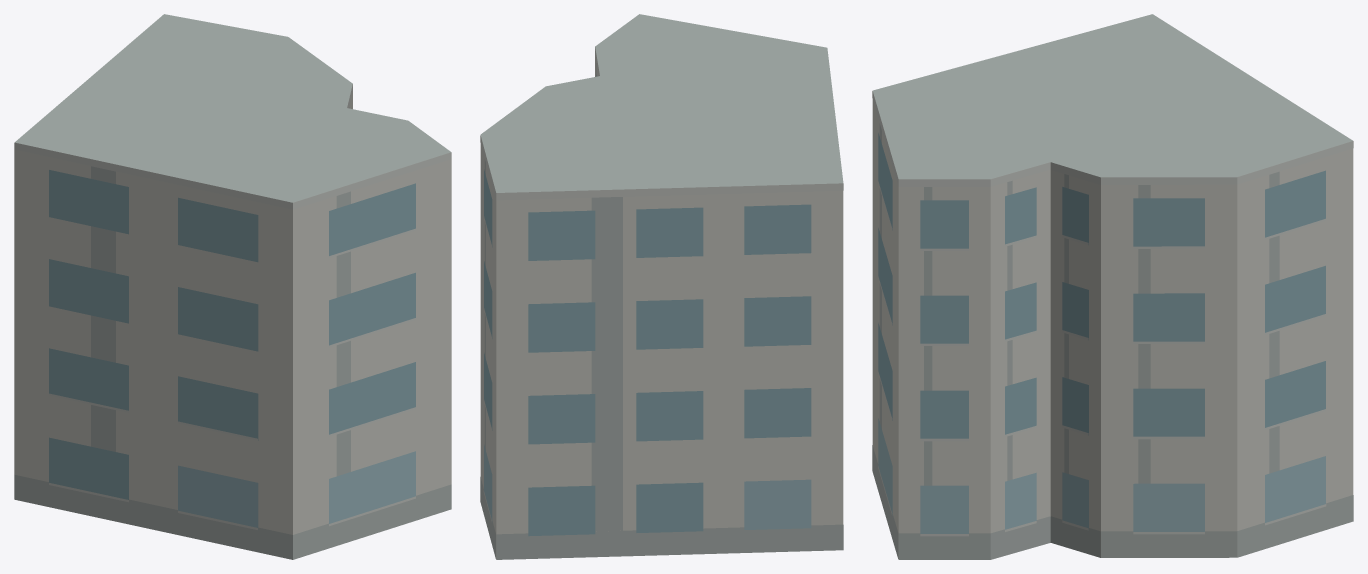
The model's file is residential-661c6a1d-ef8a-4b91-8ebc-95d4b238a2c1.glb.
3 renders of one model, left to right at view 1: azimuth 30°, elevation 25°; view 2: azimuth 150°, elevation 25°; view 3: azimuth 270°, elevation 25°, orthographic. The views are drawn at different scales.
Parts seen in each view (by area): view 1: residential-661c6a1d-ef8a-4b91-8ebc-95d4b238a2c1.tmp; view 2: residential-661c6a1d-ef8a-4b91-8ebc-95d4b238a2c1.tmp; view 3: residential-661c6a1d-ef8a-4b91-8ebc-95d4b238a2c1.tmp.
Boxes of the visible parts, <box> form: residential-661c6a1d-ef8a-4b91-8ebc-95d4b238a2c1.tmp: <box>14,14,451,559</box>; residential-661c6a1d-ef8a-4b91-8ebc-95d4b238a2c1.tmp: <box>480,14,843,559</box>; residential-661c6a1d-ef8a-4b91-8ebc-95d4b238a2c1.tmp: <box>872,14,1353,559</box>.
Size of the model in its own units: 11.38 by 12.2 by 13.98.
